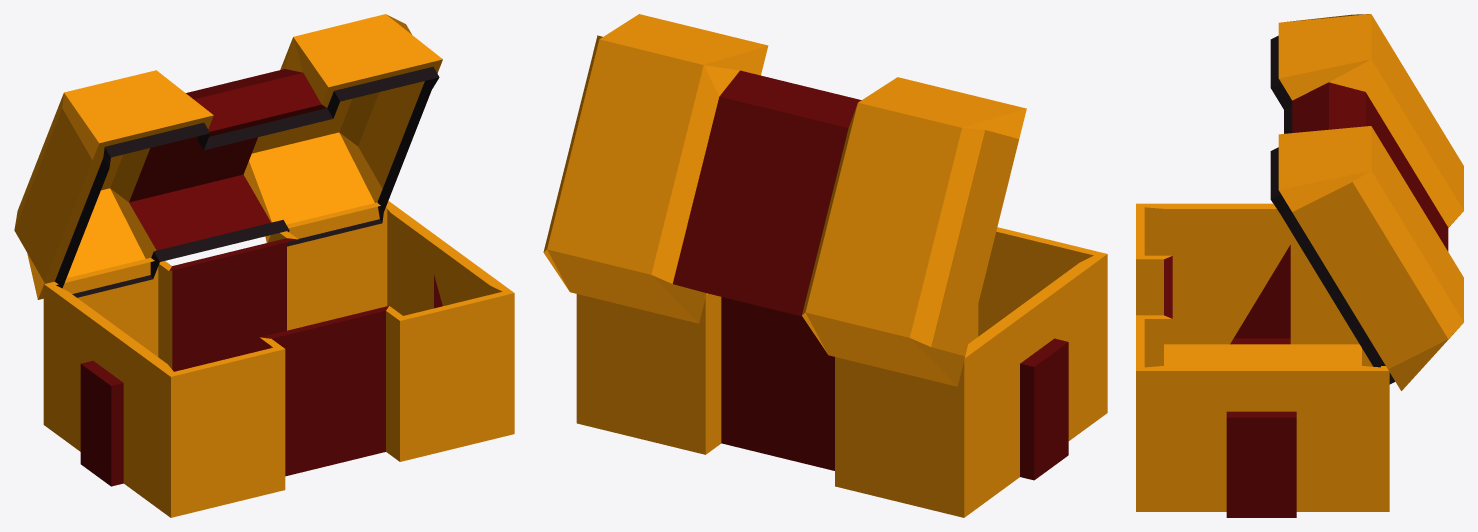
File: Chest_Gold_Open.fbx
3 views of the same model, side by side, from view 1: azimuth 30°, elevation 25°; view 2: azimuth 150°, elevation 25°; view 3: azimuth 270°, elevation 25° (orthographic). The views are drawn at different scales.
Visible parts, largest first — view 1: Chest_Gold_Open; view 2: Chest_Gold_Open; view 3: Chest_Gold_Open.
Part boxes in pixels (<box>): Chest_Gold_Open: <box>14,14,514,517</box>; Chest_Gold_Open: <box>543,14,1107,517</box>; Chest_Gold_Open: <box>1136,14,1463,517</box>.
Bounding box in the file's own units: 215 × 187 × 166.
Materials: 1 (1 with a texture image).
